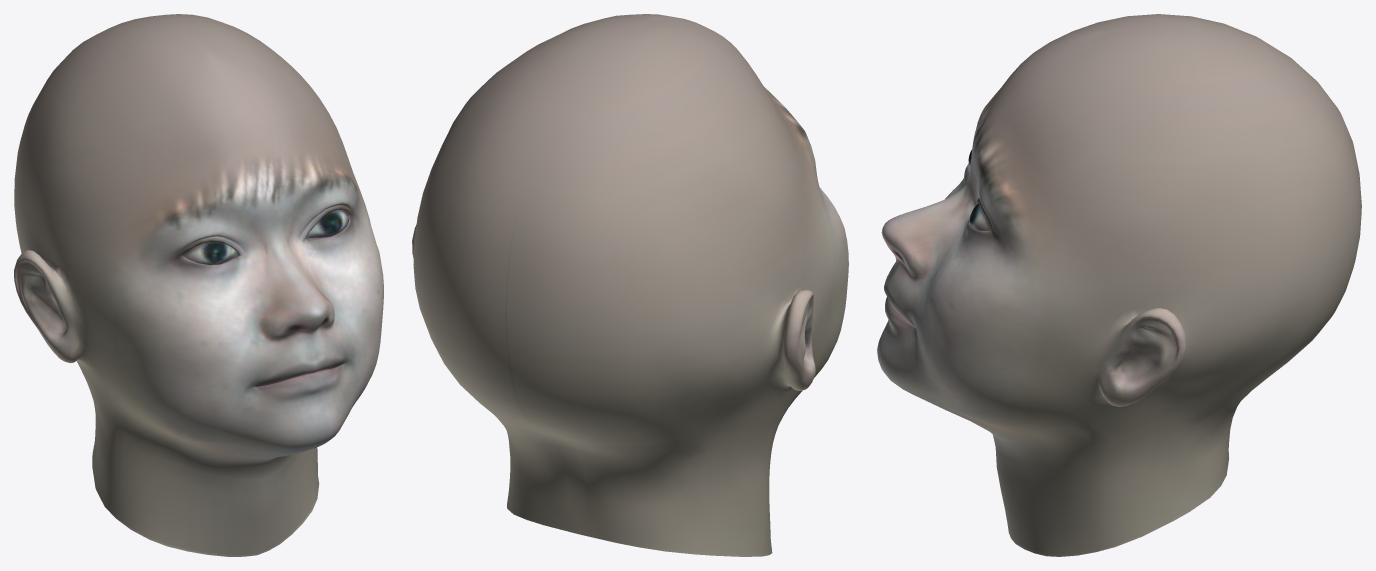
3 views of the same model, side by side, from view 1: azimuth 30°, elevation 25°; view 2: azimuth 150°, elevation 25°; view 3: azimuth 270°, elevation 25° (orthographic). The views are drawn at different scales.
Parts seen in each view (by area): view 1: skin_hi, eyeR_hi, eyeL_hi; view 2: skin_hi; view 3: skin_hi.
Part boxes in pixels (box(x1,y1,x2,y2)): skin_hi: box(14, 14, 383, 556); eyeR_hi: box(182, 241, 237, 264); eyeL_hi: box(305, 209, 348, 238); skin_hi: box(412, 14, 848, 556); skin_hi: box(877, 14, 1361, 556).
Bounding box in the file's own units: 207 × 283 × 246.
Materials: 3 (3 with a texture image).
